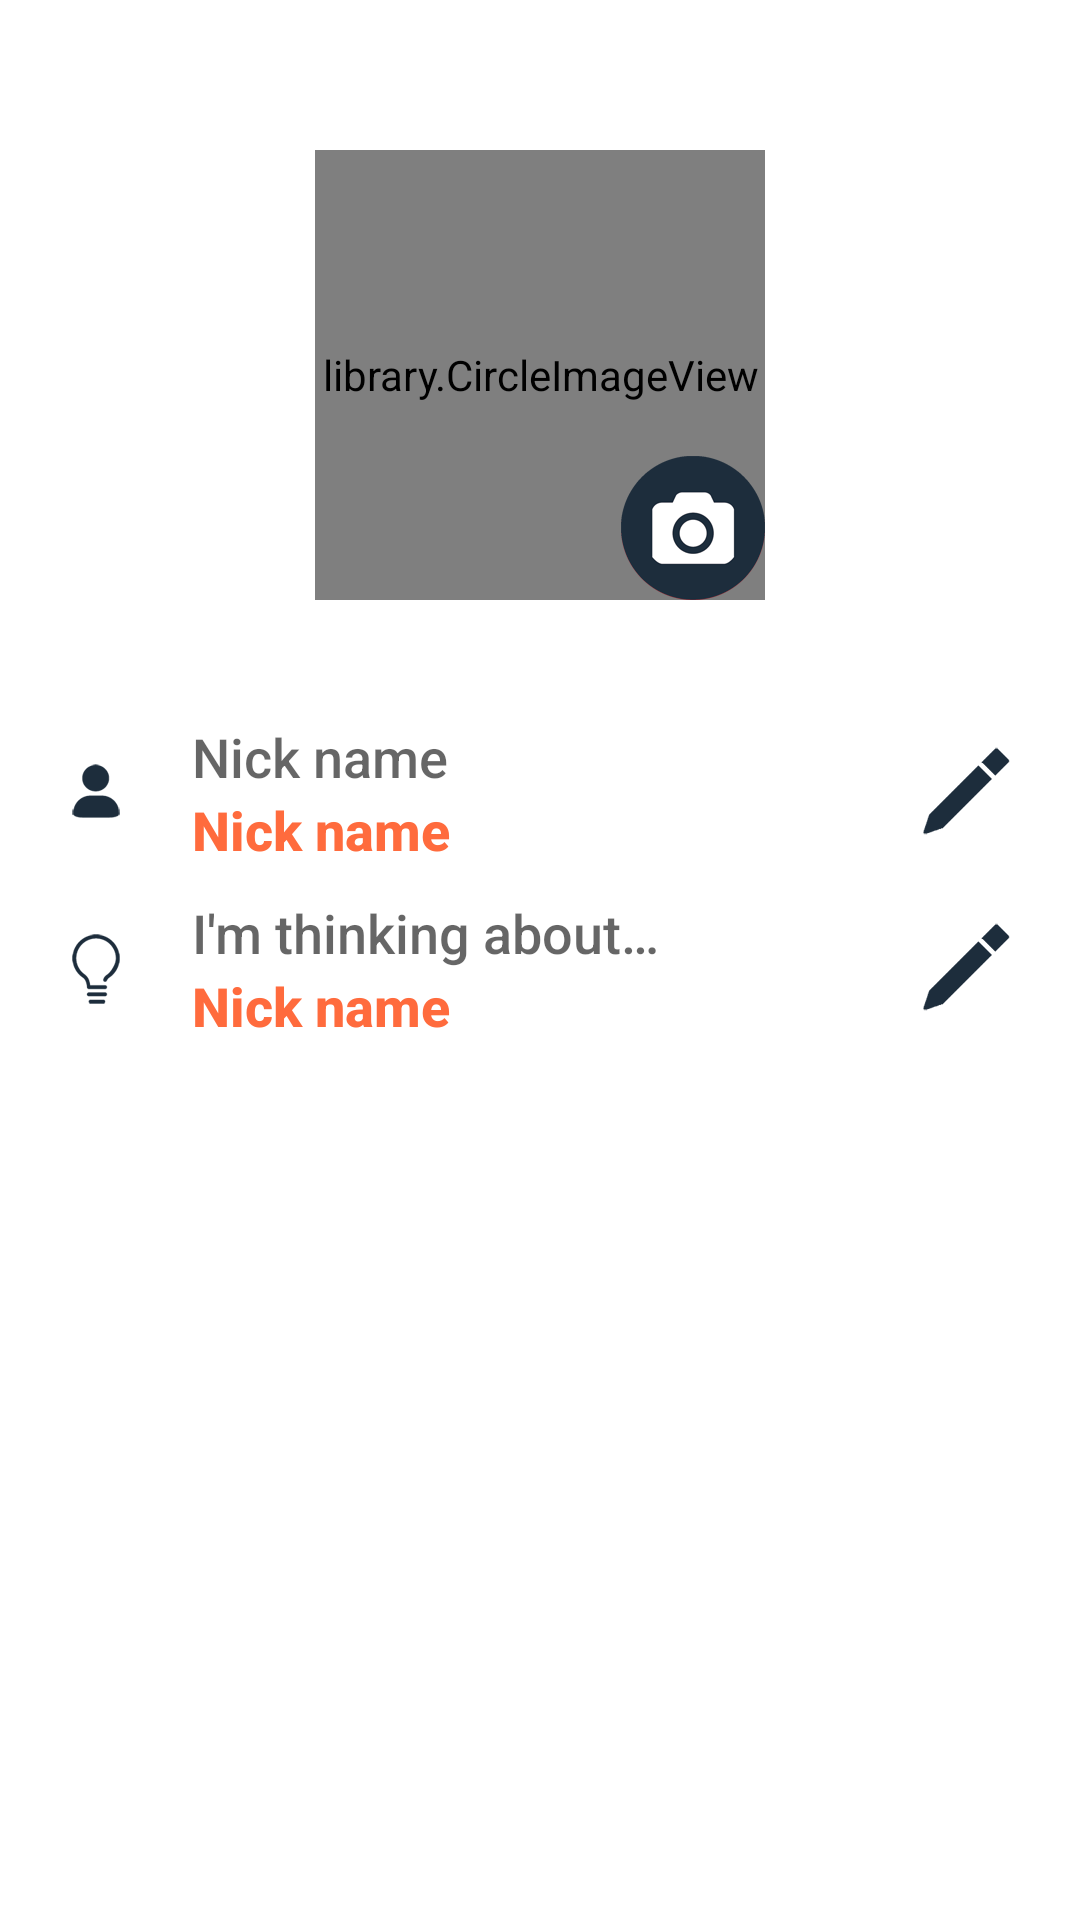

Where to tap for icons on this 1080px x 1920px app screen, as (x,y):
camera edit: (693,528)
edit: (966,791), (966,967)
